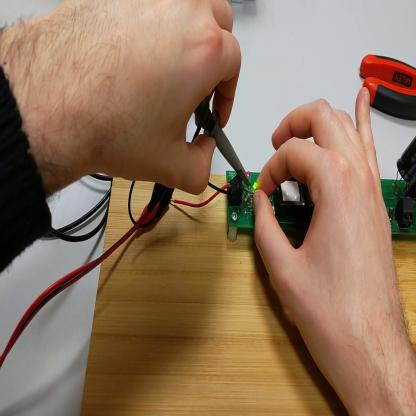hand: (252, 87, 407, 387), (52, 3, 239, 196)
high voltage board: (171, 138, 416, 238)
oscilloscope probe tip: (194, 99, 253, 189)
pliers: (361, 51, 416, 122)
working area: (81, 176, 416, 415)
